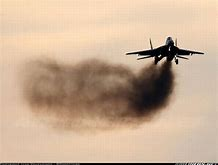smoke: (38, 62, 175, 127)
